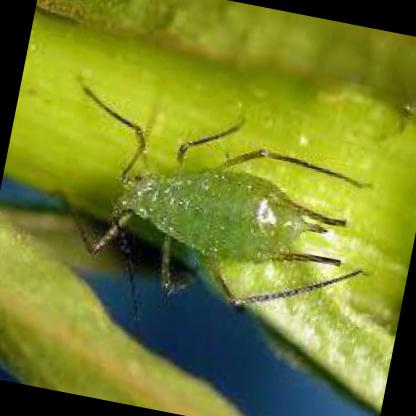uroleucon compositae: (106, 123, 342, 300)
